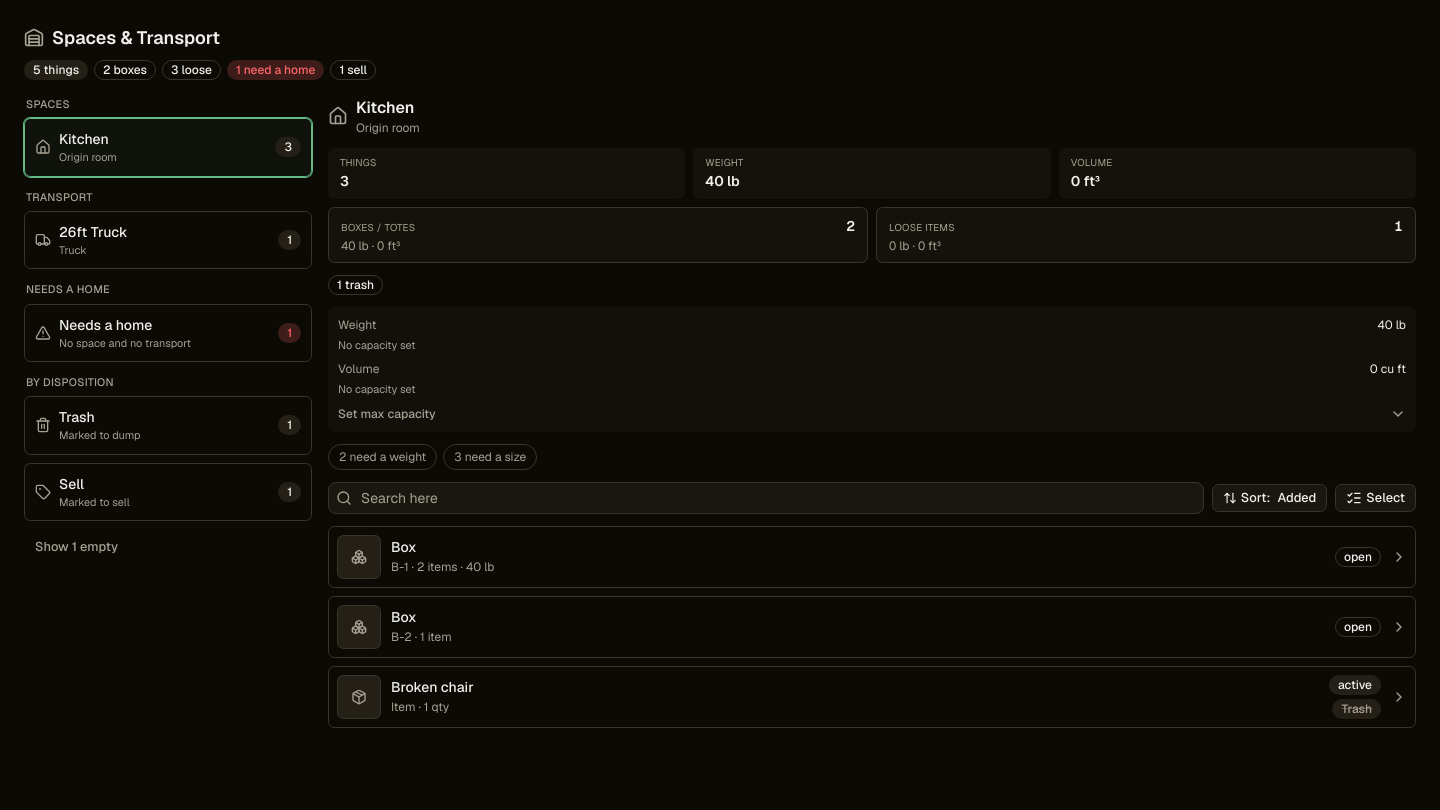
SpacesTransportPageContent (mobile-first) › the 'need a weight' chip filters the list to entries missing a weight
Check: the text "B-1 · 2 items · 40 lb" is shown, box [391,559,494,575]
Click the button "2 need a weight". click: {"x": 383, "y": 456}
box: [328,444,437,470]
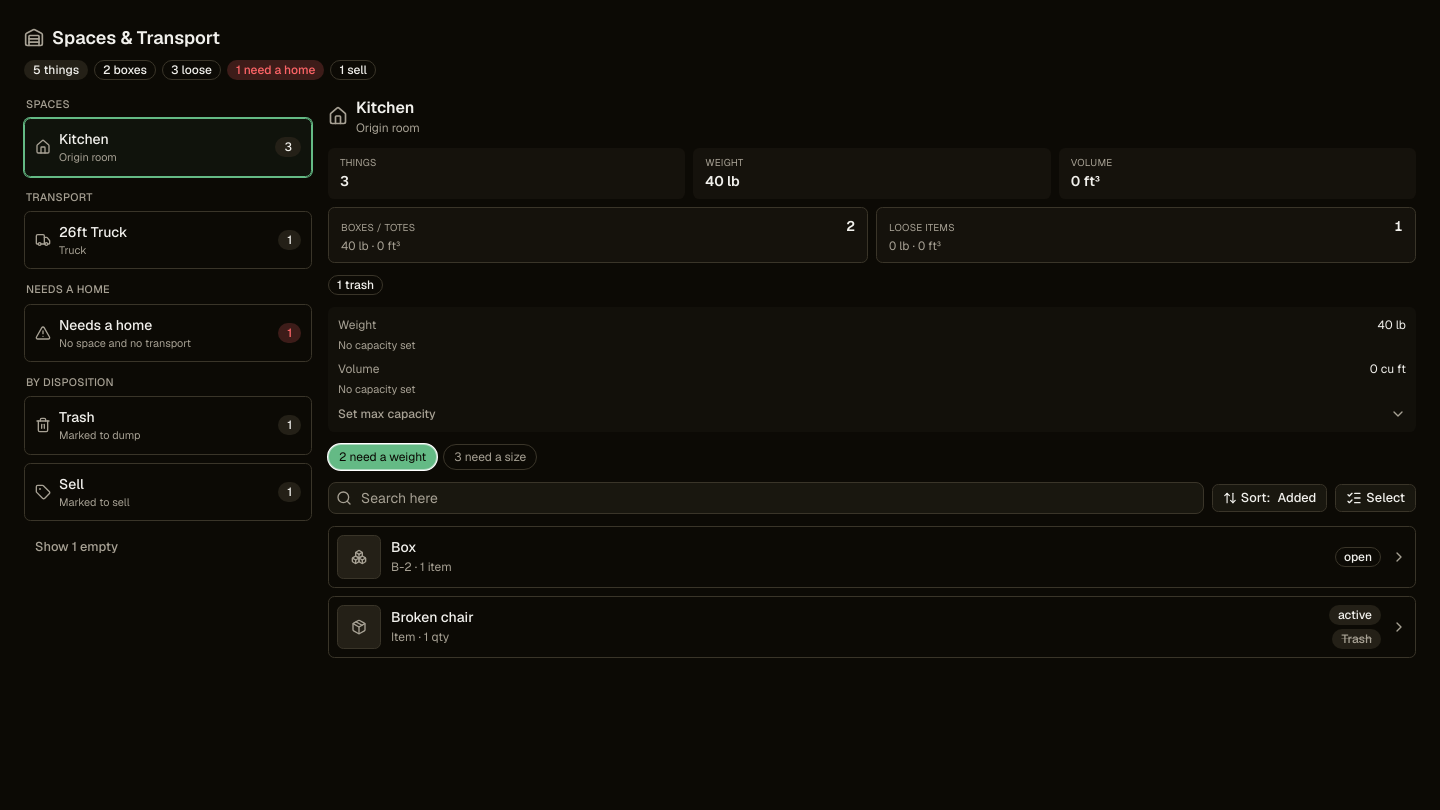
Check: the text "Broken chair" is shown, box [391,608,474,626]
Check: the button "B-1 · 2 items · 40 lb" is gone
